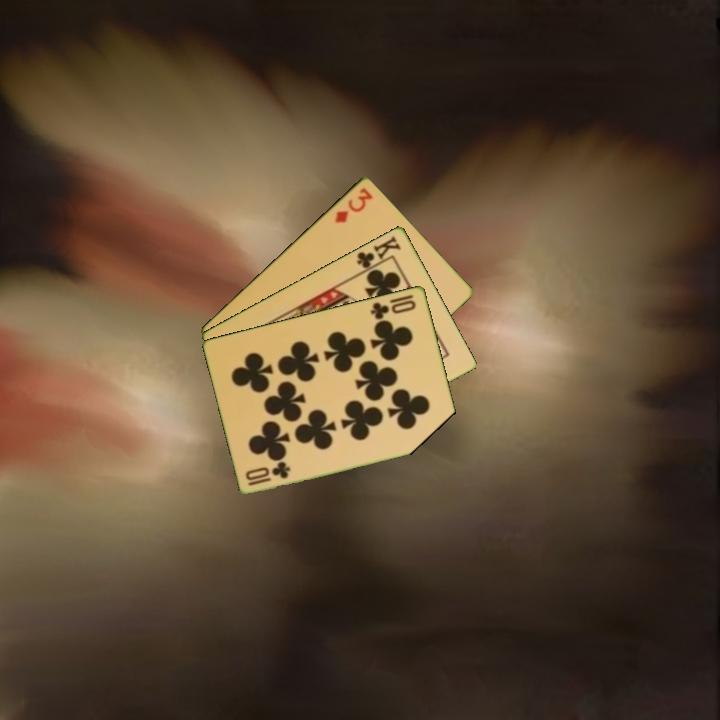10c: (245, 459, 293, 488), (367, 296, 419, 322)
3d: (331, 184, 376, 226)
Kc: (353, 232, 404, 276)
